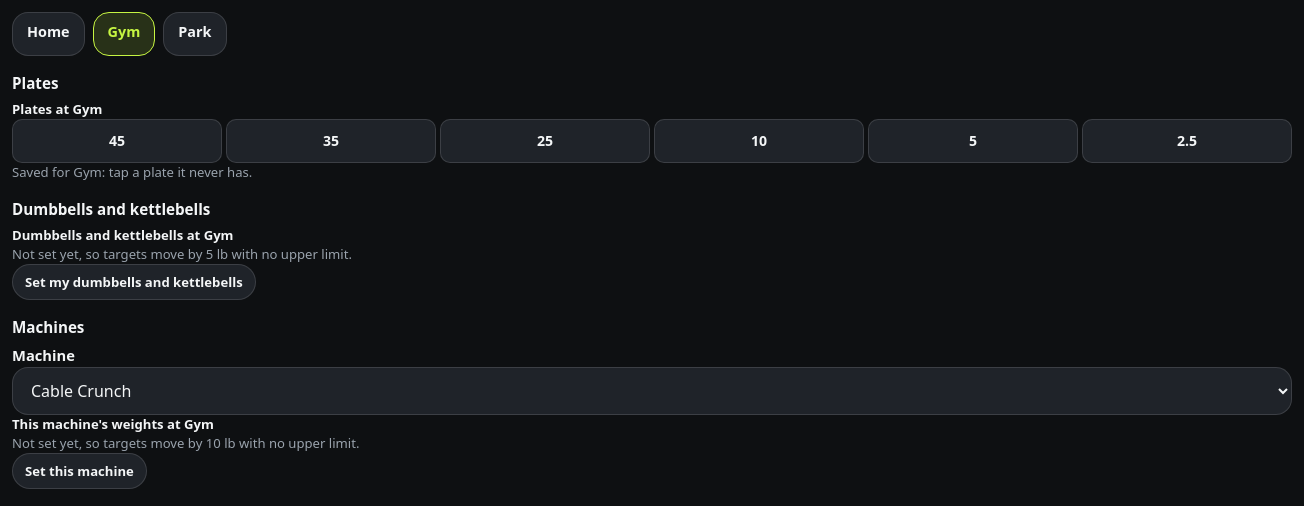
it: a lifter’s own move in Settings, at a place without the weights it names › a machine saved with no chips puts no Machines section at Home
Step 1. Click the radio button labelled "Home" → click(48, 34), box 12,12 -> 85,56
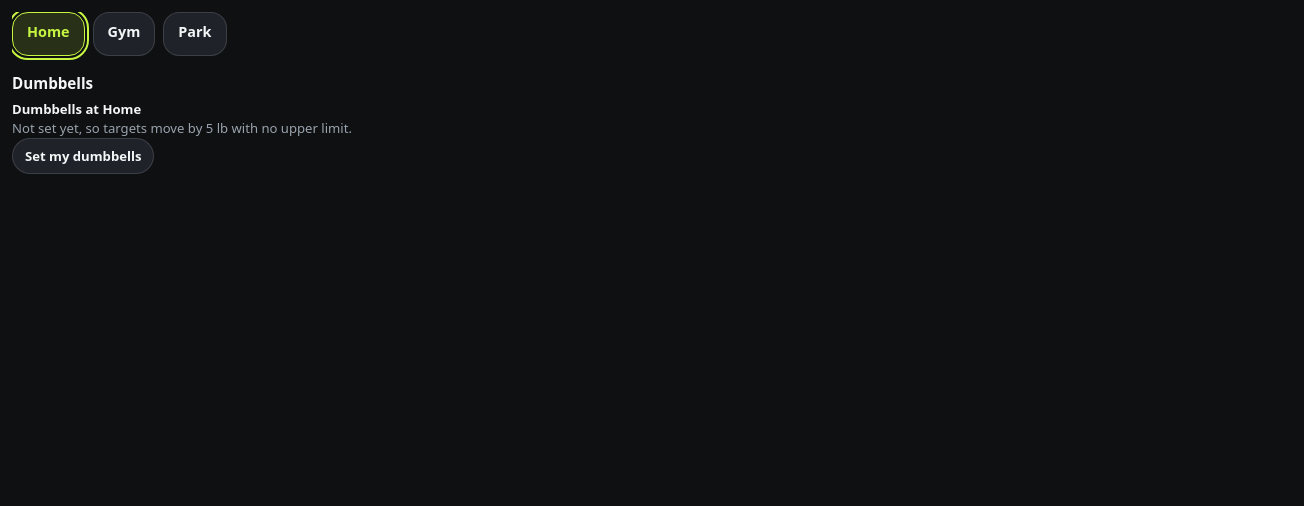
expect the element with test id "place-weights-dumbbells" shows "Dumbbells at Home": met, box 12,100 -> 141,118
expect the element with test id "place-weights-machines" is gone: met
